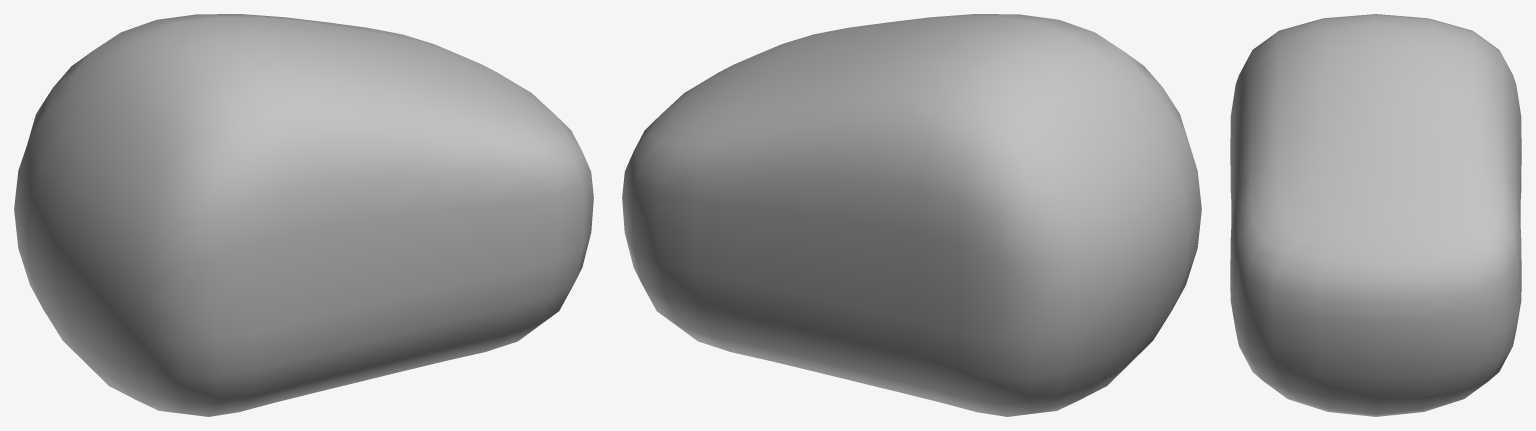
File: Farm_20_Stone_2.glb
The picture shows the model from 3 angles, left to right: view 1: azimuth 30°, elevation 25°; view 2: azimuth 150°, elevation 25°; view 3: azimuth 270°, elevation 25°; orthographic projection. The views are drawn at different scales.
Parts seen in each view (by area): view 1: Farm_20_Stone_2; view 2: Farm_20_Stone_2; view 3: Farm_20_Stone_2.
Part boxes in pixels (x1,y1,x2,y2): Farm_20_Stone_2: [14, 14, 593, 416]; Farm_20_Stone_2: [622, 14, 1201, 416]; Farm_20_Stone_2: [1230, 14, 1521, 416].
Size of the model in its own units: 0.9312 by 0.6116 by 0.5615.
1 material, 1 textured.
